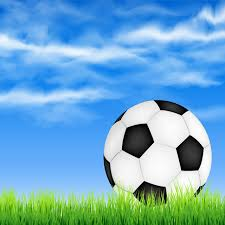football ball: (101, 100, 212, 208)
